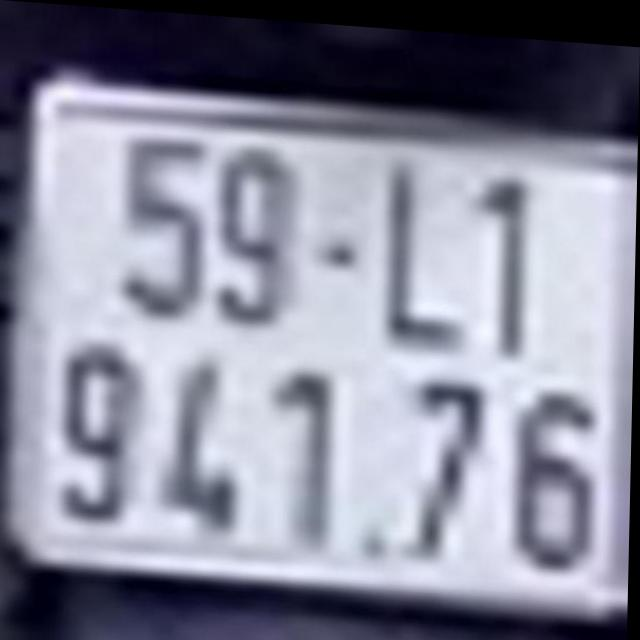1: (272, 366, 333, 552), (473, 166, 530, 356)
4: (163, 357, 241, 529)
5: (123, 132, 207, 314)
6: (516, 378, 599, 563)
7: (415, 371, 484, 551)
9: (216, 139, 298, 326), (64, 342, 135, 521)
L: (382, 155, 470, 347)
